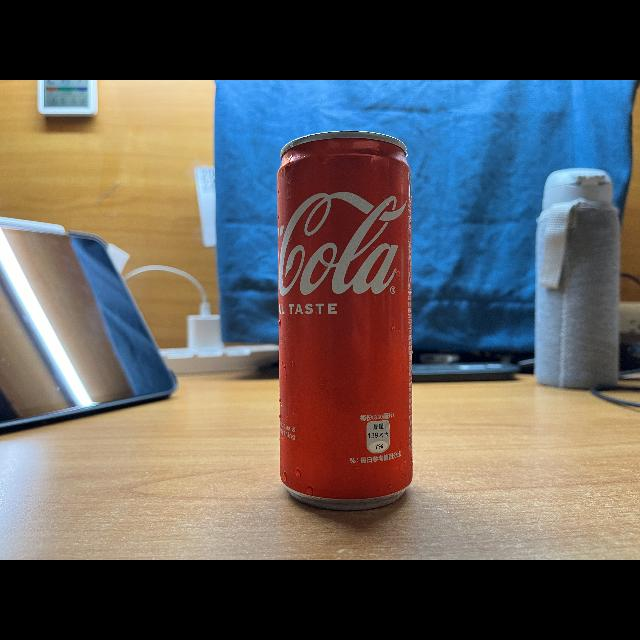can: (272, 127, 418, 511)
